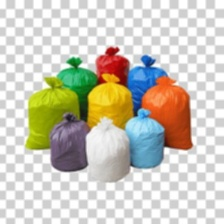plastic_bag: (21, 76, 81, 152), (138, 76, 195, 151), (49, 53, 99, 122), (81, 71, 136, 133), (84, 115, 132, 184), (124, 52, 172, 117), (46, 108, 91, 175), (121, 105, 166, 172), (90, 43, 132, 90)
